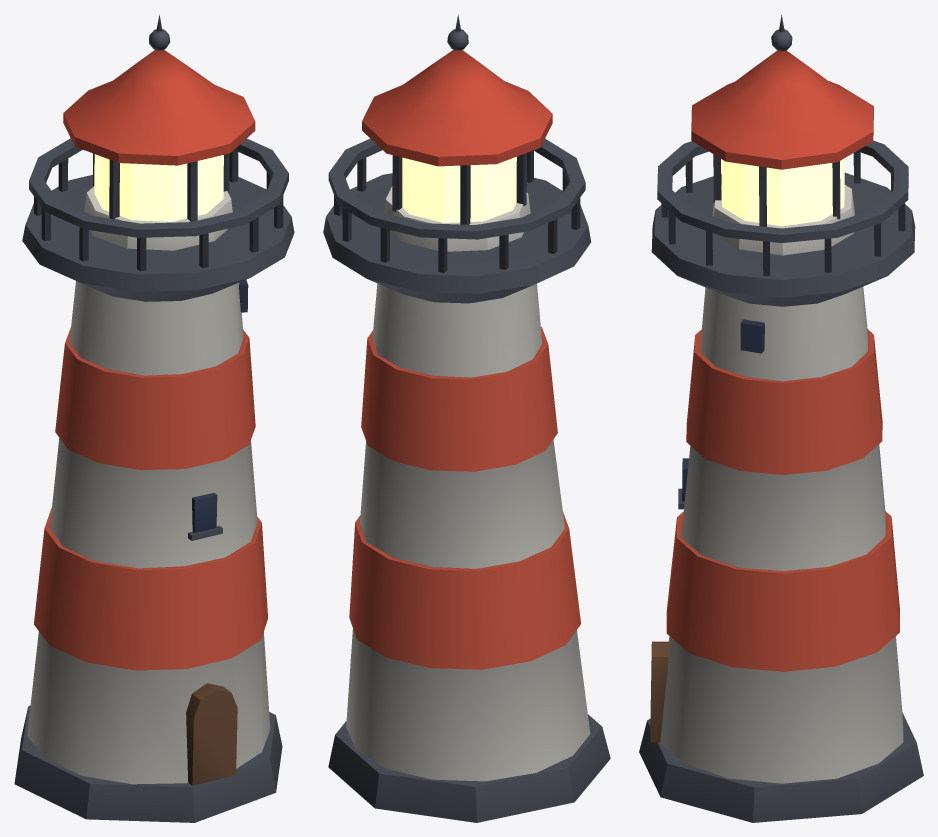
File: lighthouse.glb
The picture shows the model from 3 angles, left to right: view 1: azimuth 30°, elevation 25°; view 2: azimuth 150°, elevation 25°; view 3: azimuth 270°, elevation 25°; orthographic projection.
Parts seen in each view (by area): view 1: lighthouse; view 2: lighthouse; view 3: lighthouse.
Part boxes in pixels (<box>): lighthouse: <box>14,14,294,822</box>; lighthouse: <box>323,14,610,822</box>; lighthouse: <box>639,15,923,822</box>.
Bounding box in the file's own units: 1.91 × 5.5 × 1.88.
